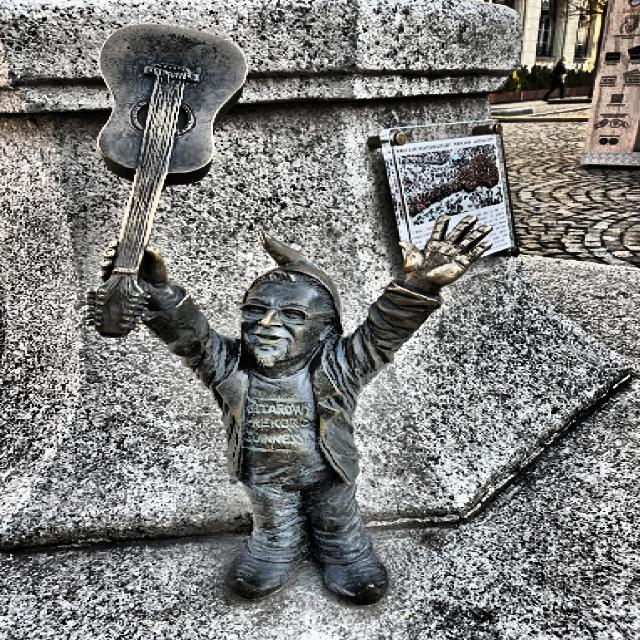Leszko_z_Wroclawia: (85, 24, 491, 607)
